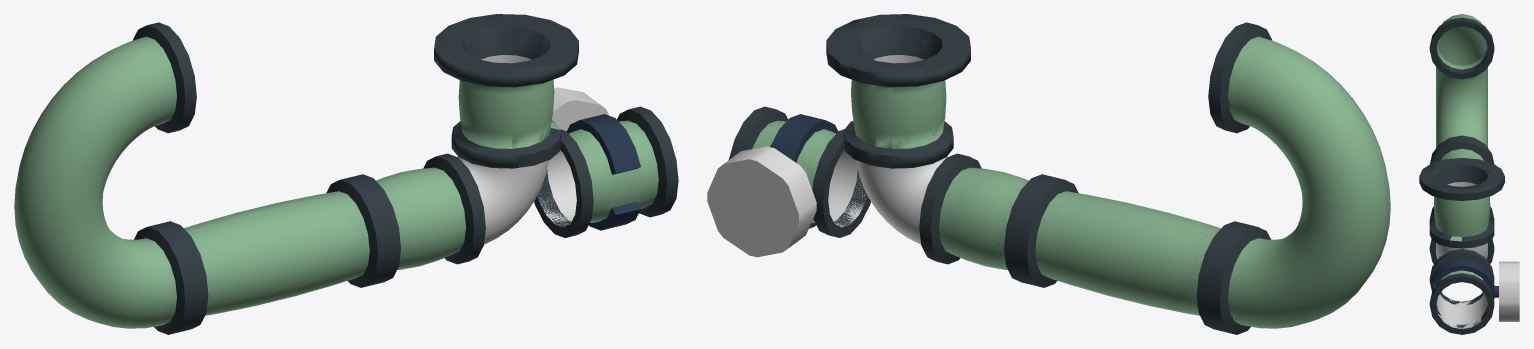
File: MazeSet.fbx
3 renders of one model, left to right at view 1: azimuth 30°, elevation 25°; view 2: azimuth 150°, elevation 25°; view 3: azimuth 270°, elevation 25°, orthographic. The views are drawn at different scales.
Visible parts, largest first — view 1: U curve, Straight section long, Turneble tube, Straight sectionEnd_Outline, Straight section, U curve_Outline, Straight sectionEnd, Straight section long_Outline, Curve section, Straight section_Outline, Turnsection_collission, Turn section (+2 smaller); view 2: U curve, Straight section long, Straight sectionEnd, Straight section, Straight sectionEnd_Outline, U curve_Outline, Turn section, Turneble tube, Straight section long_Outline, Curve section, Straight section_Outline, Turnsection_collission (+1 smaller); view 3: U curve, Straight sectionEnd, Turneble tube, U curve_Outline, Turn section, Turnsection_collission, Straight section long, Straight sectionEnd_Outline, Straight section, Curve section, Straight sectionEnd_collission, Curve section_Outline.
Boxes of the visible parts, box(x1,y1,x2,y2) form: U curve: box(14, 22, 196, 334); Straight section long: box(159, 177, 389, 331); Turneble tube: box(534, 106, 678, 237); Straight sectionEnd_Outline: box(434, 14, 578, 168); Straight section: box(352, 153, 485, 284); U curve_Outline: box(15, 37, 176, 328); Straight sectionEnd: box(434, 14, 578, 168); Straight section long_Outline: box(185, 193, 368, 315); Curve section: box(458, 157, 548, 244); Straight section_Outline: box(377, 168, 464, 269); Turnsection_collission: box(539, 150, 576, 227); Turn section: box(552, 87, 608, 131); U curve: box(1208, 22, 1390, 334); Straight section long: box(1015, 177, 1245, 331); Straight sectionEnd: box(826, 14, 970, 168); Straight section: box(919, 153, 1052, 284); Straight sectionEnd_Outline: box(828, 14, 970, 168); U curve_Outline: box(1228, 37, 1390, 328); Turn section: box(707, 146, 816, 257); Turneble tube: box(728, 106, 870, 237); Straight section long_Outline: box(1035, 192, 1220, 315); Curve section: box(856, 157, 947, 244); Straight section_Outline: box(939, 168, 1028, 269); Turnsection_collission: box(828, 150, 867, 227); U curve: box(1429, 14, 1494, 163); Straight sectionEnd: box(1419, 158, 1504, 248); Turneble tube: box(1429, 249, 1498, 334); U curve_Outline: box(1436, 15, 1487, 146); Turn section: box(1499, 261, 1519, 321); Turnsection_collission: box(1436, 292, 1487, 329); Straight section long: box(1429, 139, 1494, 222); Straight sectionEnd_Outline: box(1425, 163, 1501, 240); Straight section: box(1429, 209, 1494, 263); Curve section: box(1436, 243, 1487, 259); Straight sectionEnd_collission: box(1447, 182, 1476, 186); Curve section_Outline: box(1436, 244, 1487, 257).
Size of the model in its own units: 6.55 by 3 by 1.54.
